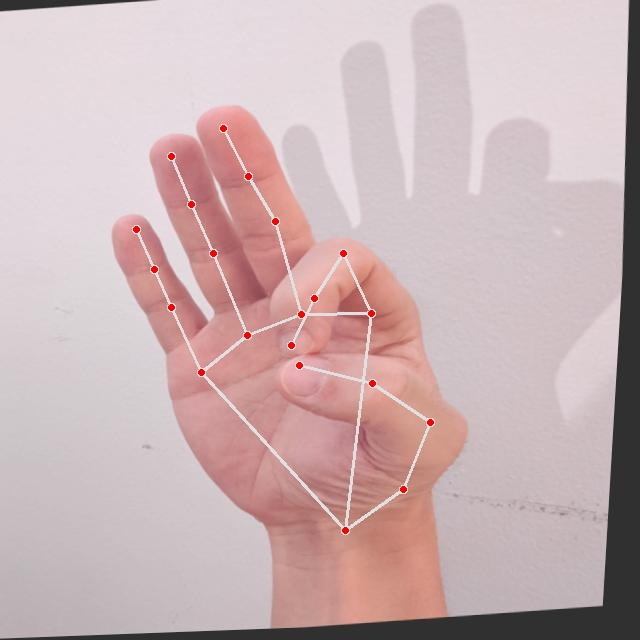F: (87, 83, 502, 550)
